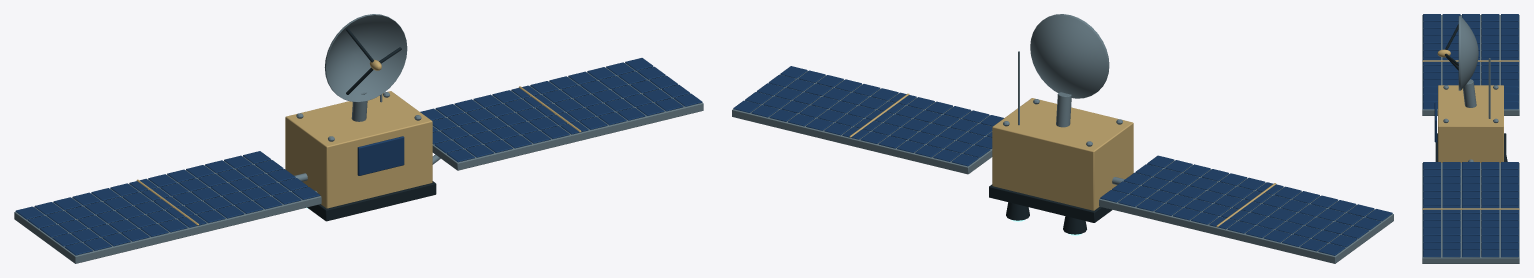
The model's file is survey_probe.glb.
The picture shows the model from 3 angles, left to right: view 1: azimuth 30°, elevation 25°; view 2: azimuth 150°, elevation 25°; view 3: azimuth 270°, elevation 25°; orthographic projection. The views are drawn at different scales.
Parts seen in each view (by area): view 1: Detail.survey_probe.Glass, Detail.survey_probe.Metal, Detail.survey_probe.Brass, Detail.survey_probe.Dark; view 2: Detail.survey_probe.Glass, Detail.survey_probe.Metal, Detail.survey_probe.Brass, Detail.survey_probe.Dark; view 3: Detail.survey_probe.Glass, Detail.survey_probe.Brass, Detail.survey_probe.Metal, Detail.survey_probe.Dark.
Boxes of the visible parts, <box> form: Detail.survey_probe.Glass: <box>15,58,702,255</box>; Detail.survey_probe.Metal: <box>14,14,703,263</box>; Detail.survey_probe.Brass: <box>136,59,581,225</box>; Detail.survey_probe.Dark: <box>307,28,436,221</box>; Detail.survey_probe.Glass: <box>733,66,1392,255</box>; Detail.survey_probe.Metal: <box>732,14,1393,263</box>; Detail.survey_probe.Brass: <box>849,93,1276,227</box>; Detail.survey_probe.Dark: <box>989,184,1112,234</box>; Detail.survey_probe.Glass: <box>1423,14,1518,257</box>; Detail.survey_probe.Brass: <box>1422,49,1519,209</box>; Detail.survey_probe.Metal: <box>1422,15,1519,263</box>; Detail.survey_probe.Dark: <box>1435,24,1507,161</box>.
Size of the model in its own units: 7.4 by 2.27 by 1.25.
